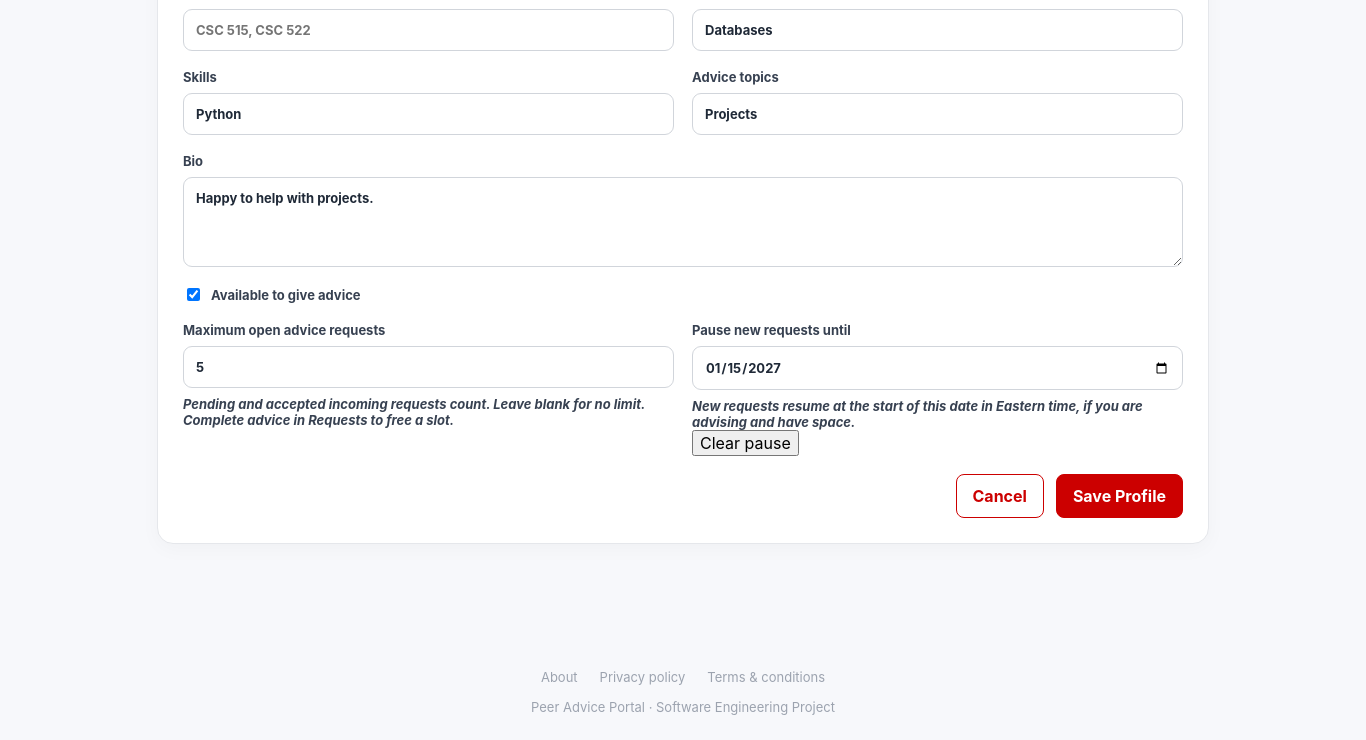
it: profile editor › clears a pause and saves an unlimited request capacity
The image size is (1366, 740).
(page scrolled)
Clear the number field labelled "Maximum open advice requests". click: point(428, 367)
box: top-left (183, 346), bottom-right (674, 388)
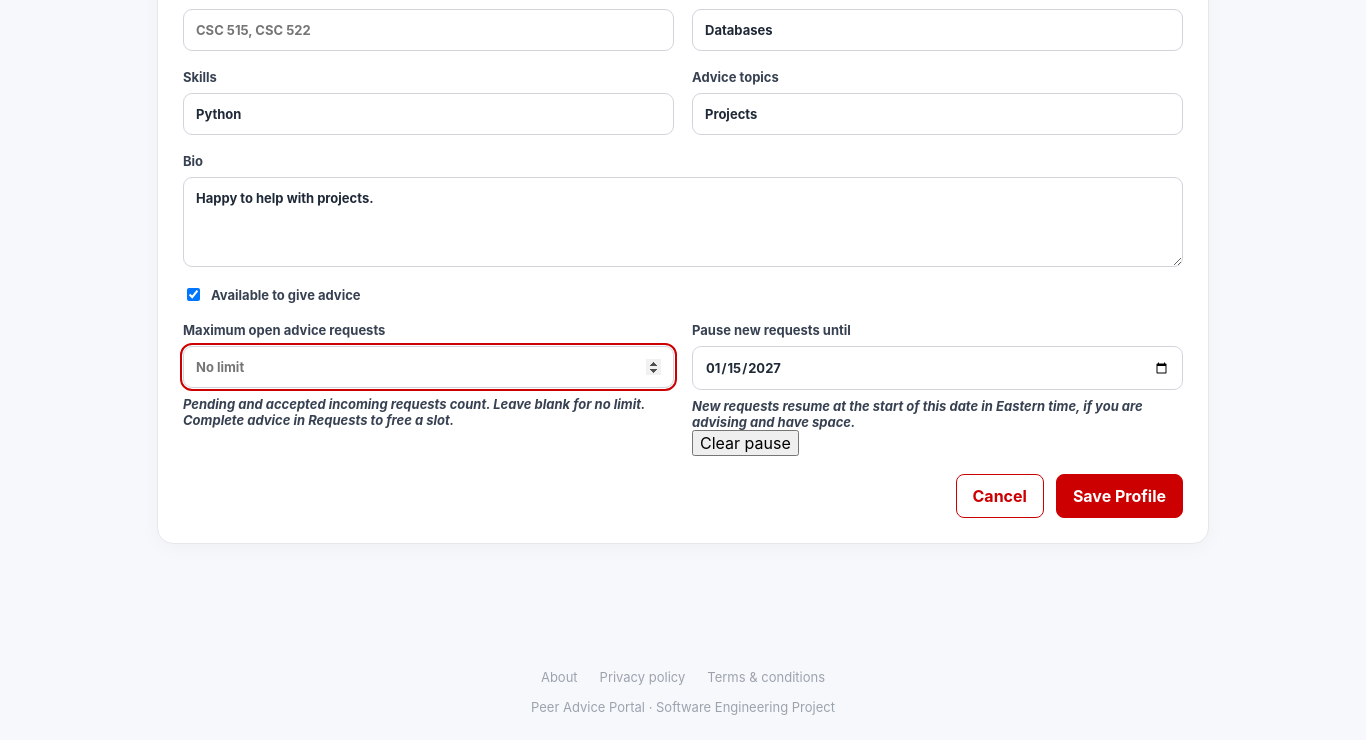
Click the button "Clear pause". click: point(745, 443)
box: top-left (692, 430), bottom-right (799, 456)
(page scrolled)
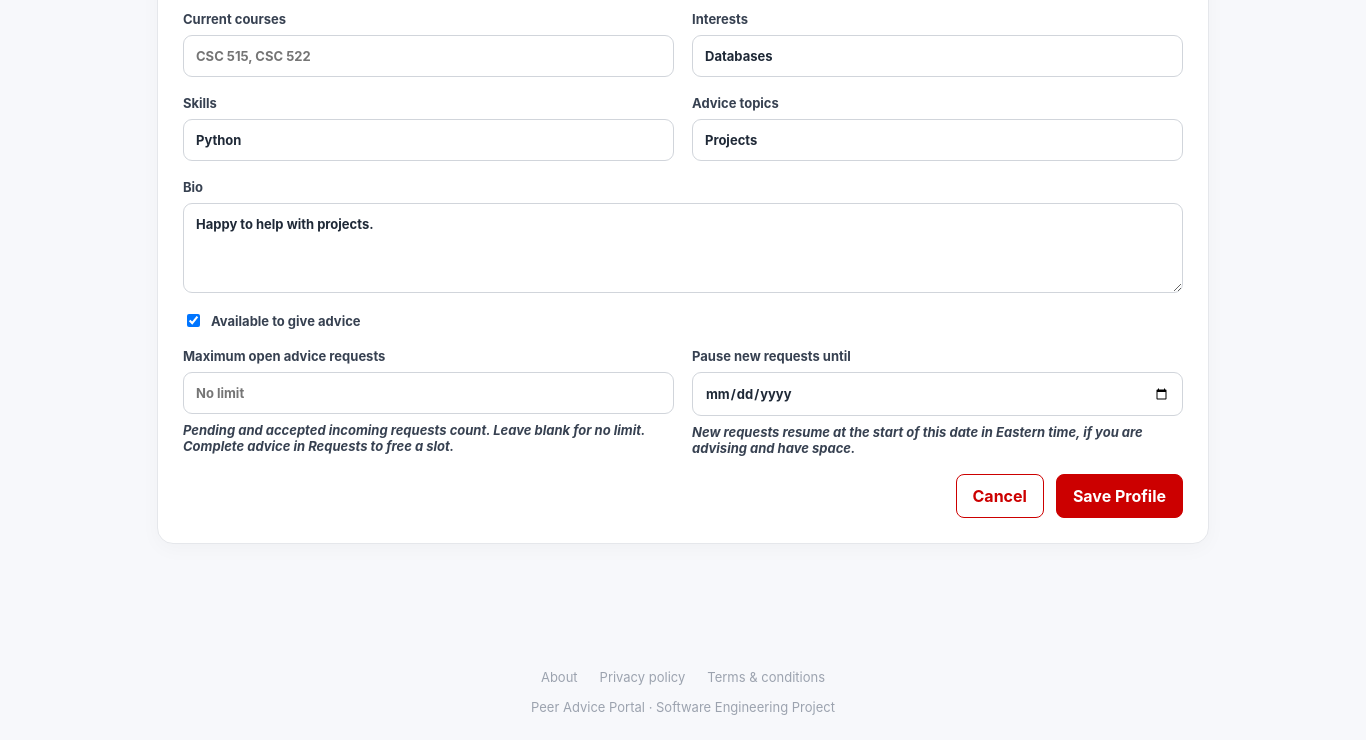
Click the button "Save Profile". click: point(1119, 496)
box: top-left (1056, 474), bottom-right (1183, 518)
(page scrolled)
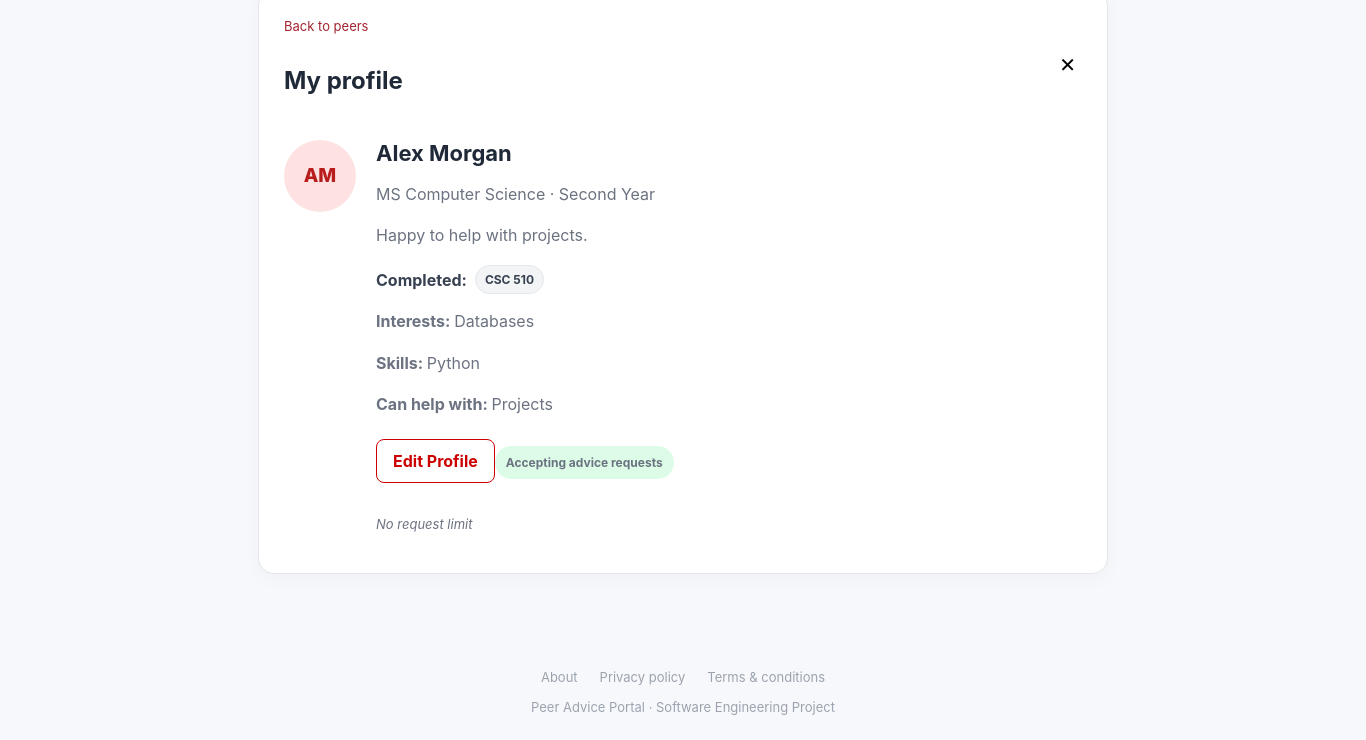
Result: the text "No request limit" is shown at top-left (376, 516), bottom-right (472, 532)
